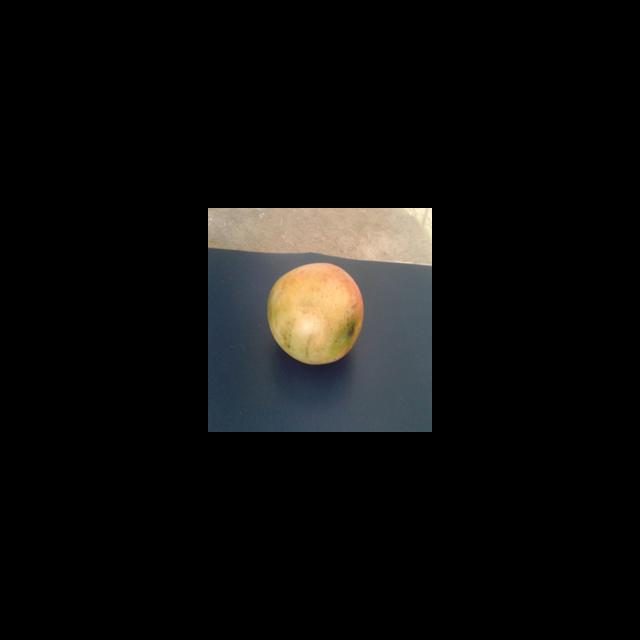Mango: (266, 262, 364, 365)
